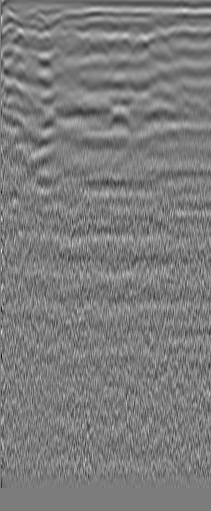오수: (30, 9, 50, 29)
우수: (175, 21, 195, 41)
